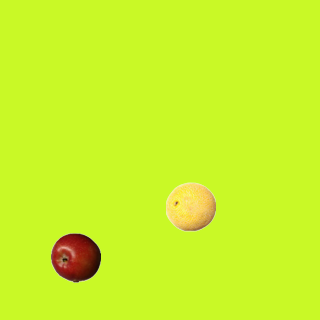Apple Braeburn: (50, 232, 100, 282)
Cantaloupe 1: (165, 181, 215, 231)
